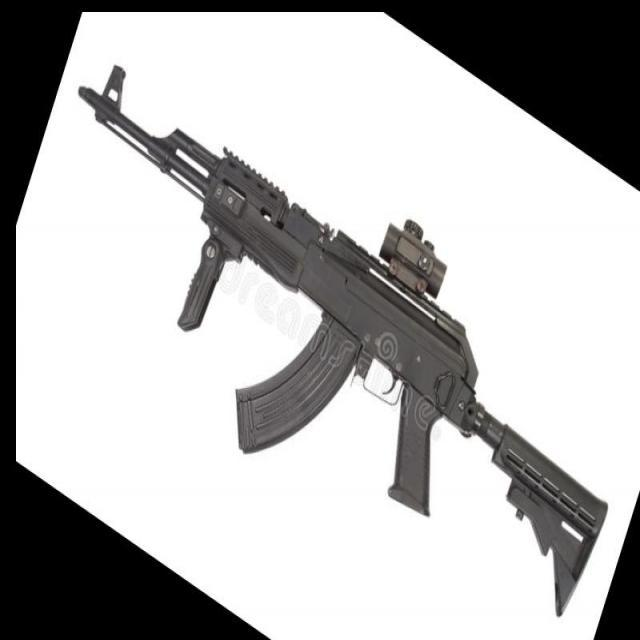weapon: (77, 62, 610, 620)
